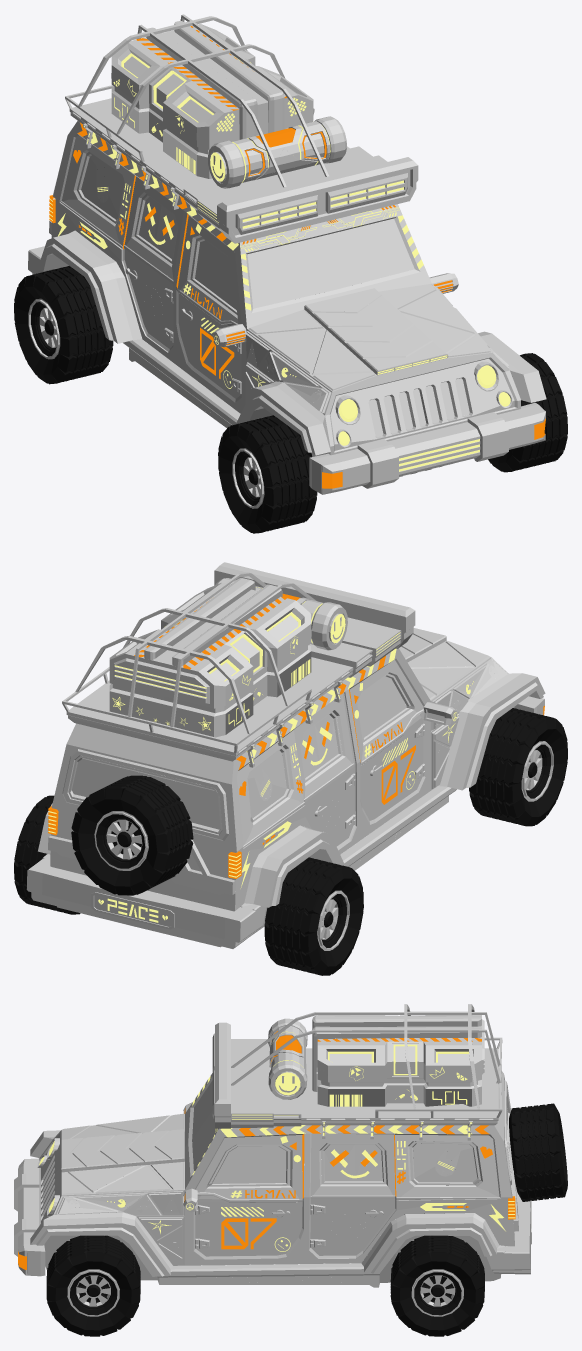
The model's file is car.glb.
3 renders of one model, top to bottom at view 1: azimuth 30°, elevation 25°; view 2: azimuth 150°, elevation 25°; view 3: azimuth 270°, elevation 25°, orthographic. The views are drawn at different scales.
Visible parts, largest first — view 1: color1, top, window, color4, color2, crater1, tire1.0, tire2.0, light2, crater2, light1, tire3.0 (+3 smaller); view 2: color1, top, color4, crater1, window, tire5.0, tire2.0, tire1.0, color2, crater2, light2, light1 (+5 smaller); view 3: color1, top, color4, color2, window, crater1, tire3.0, tire4.0, crater2, tire5.0, light2, light1 (+3 smaller).
Part boxes in pixels (bbox=[...]): color1: bbox=[51, 121, 520, 476]; top: bbox=[65, 14, 418, 243]; window: bbox=[81, 27, 469, 436]; color4: bbox=[28, 230, 546, 494]; color2: bbox=[49, 152, 508, 488]; crater1: bbox=[111, 24, 346, 188]; tire1.0: bbox=[218, 415, 317, 533]; tire2.0: bbox=[14, 266, 113, 384]; light2: bbox=[49, 53, 510, 471]; crater2: bbox=[114, 20, 329, 180]; light1: bbox=[49, 26, 545, 488]; tire3.0: bbox=[488, 353, 567, 472]; color1: bbox=[50, 633, 514, 946]; top: bbox=[62, 562, 415, 767]; color4: bbox=[26, 673, 545, 948]; crater1: bbox=[91, 578, 347, 929]; window: bbox=[63, 588, 498, 945]; tire5.0: bbox=[71, 775, 193, 895]; tire2.0: bbox=[264, 857, 363, 975]; tire1.0: bbox=[469, 708, 567, 826]; color2: bbox=[48, 628, 485, 894]; crater2: bbox=[112, 578, 323, 713]; light2: bbox=[48, 587, 473, 922]; light1: bbox=[48, 593, 544, 878]; color1: bbox=[37, 1067, 514, 1286]; top: bbox=[212, 1004, 502, 1140]; color4: bbox=[18, 1130, 530, 1277]; color2: bbox=[14, 1090, 518, 1264]; window: bbox=[68, 1029, 507, 1287]; crater1: bbox=[268, 1015, 531, 1244]; tire3.0: bbox=[46, 1235, 140, 1336]; tire4.0: bbox=[390, 1235, 484, 1336]; crater2: bbox=[269, 1015, 484, 1100]; tire5.0: bbox=[509, 1103, 567, 1201]; light2: bbox=[39, 1031, 515, 1251]; light1: bbox=[18, 1031, 515, 1269].
Size of the model in its own units: 6.66 by 6.4 by 12.55.
